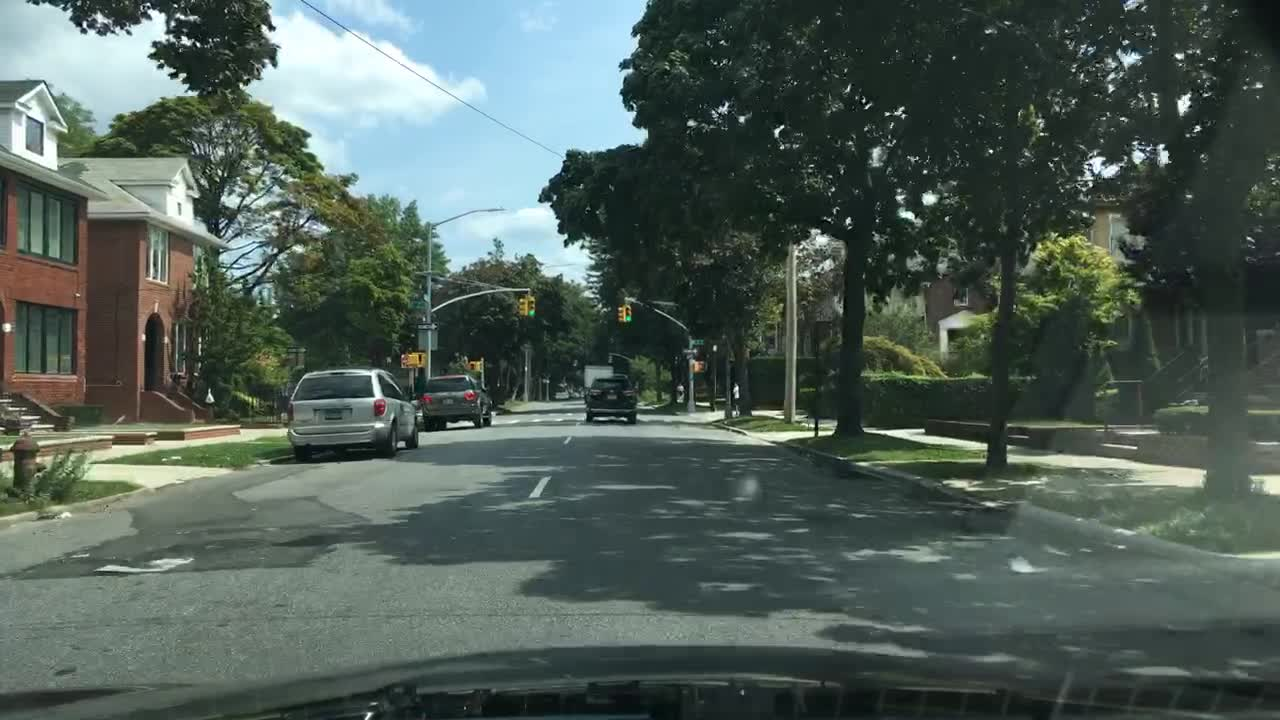car: (284, 365, 416, 456), (420, 375, 494, 431), (581, 376, 637, 426), (552, 389, 570, 401)
person: (731, 381, 739, 414), (676, 384, 685, 396)
traffic light: (401, 353, 426, 366), (517, 296, 526, 318), (693, 361, 708, 371), (466, 360, 480, 370), (527, 299, 535, 316), (621, 306, 630, 319), (615, 305, 621, 321)
traffic sign: (419, 331, 436, 349), (416, 321, 436, 331), (411, 298, 426, 310), (288, 346, 306, 353), (682, 348, 696, 354), (691, 339, 704, 345)
truck: (581, 366, 612, 395)
